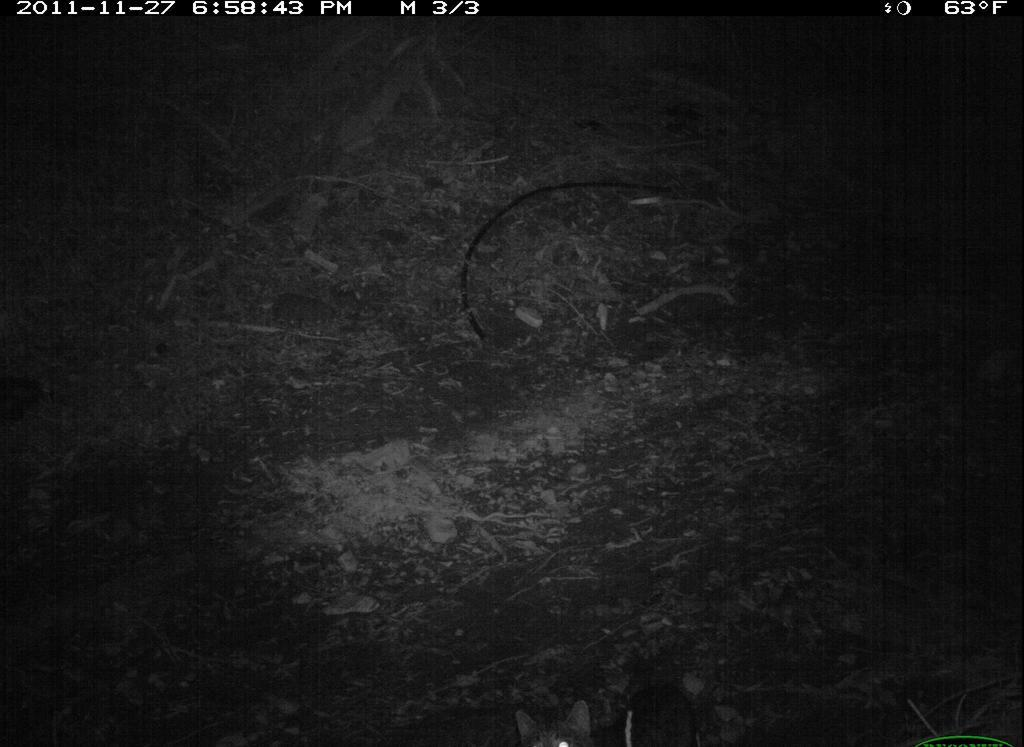cat: (507, 693, 606, 747)
